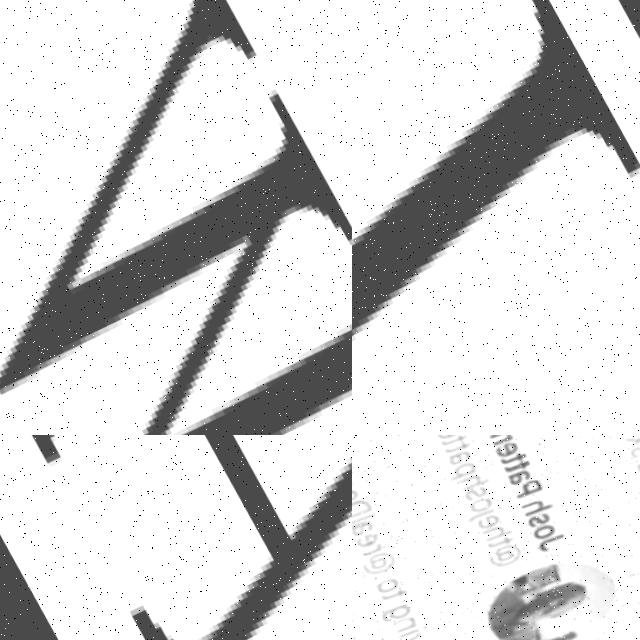1: (631, 462, 640, 483)
2: (626, 452, 640, 476)
3: (619, 436, 640, 461)
A: (0, 435, 352, 640)
L: (352, 0, 640, 435)
W: (0, 0, 352, 435)
